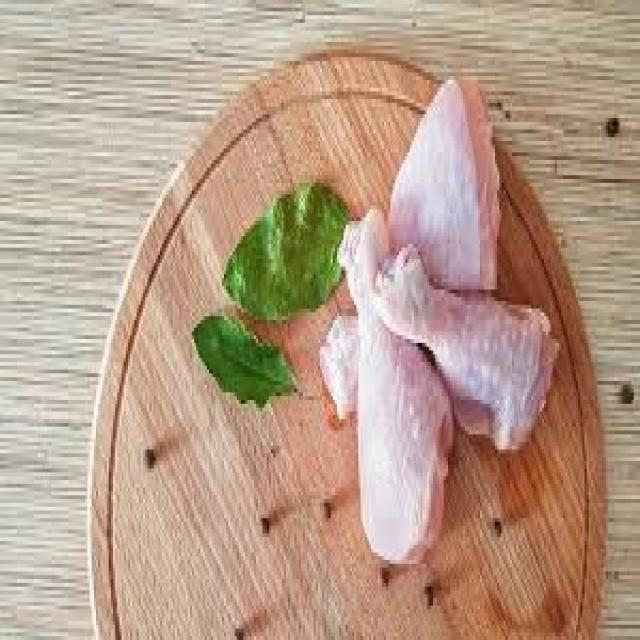Chicken: (327, 206, 468, 570), (373, 225, 546, 454), (390, 85, 516, 285)
